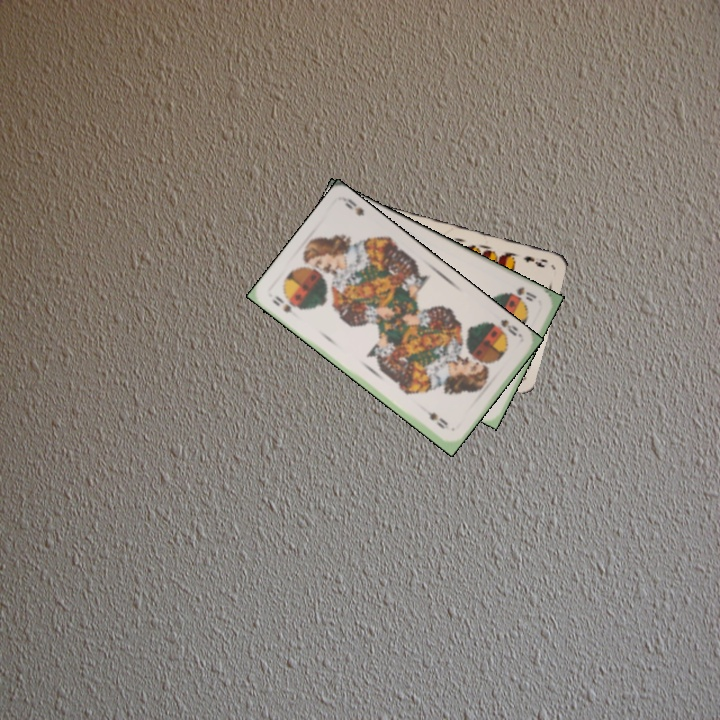E9: (519, 252, 550, 270)
SO: (485, 315, 525, 341), (506, 283, 539, 304), (268, 292, 295, 315)
